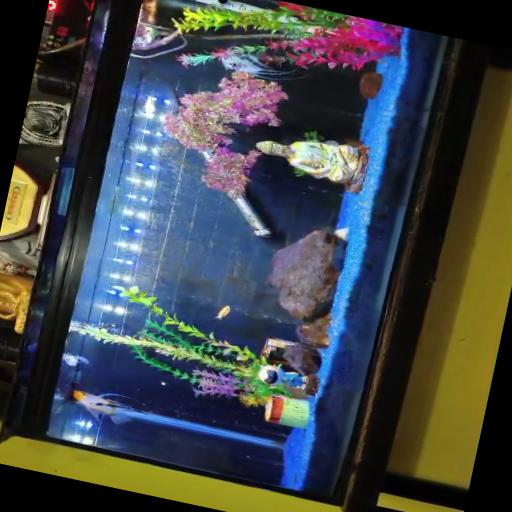Fish: (73, 390, 144, 423), (221, 52, 294, 80), (62, 352, 88, 365), (216, 305, 231, 319)
